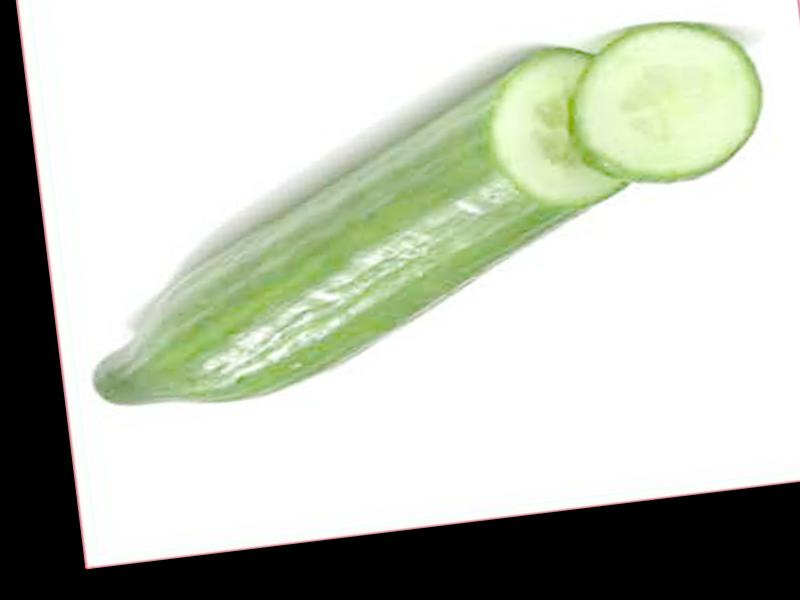Cucumber: (58, 39, 658, 416)
